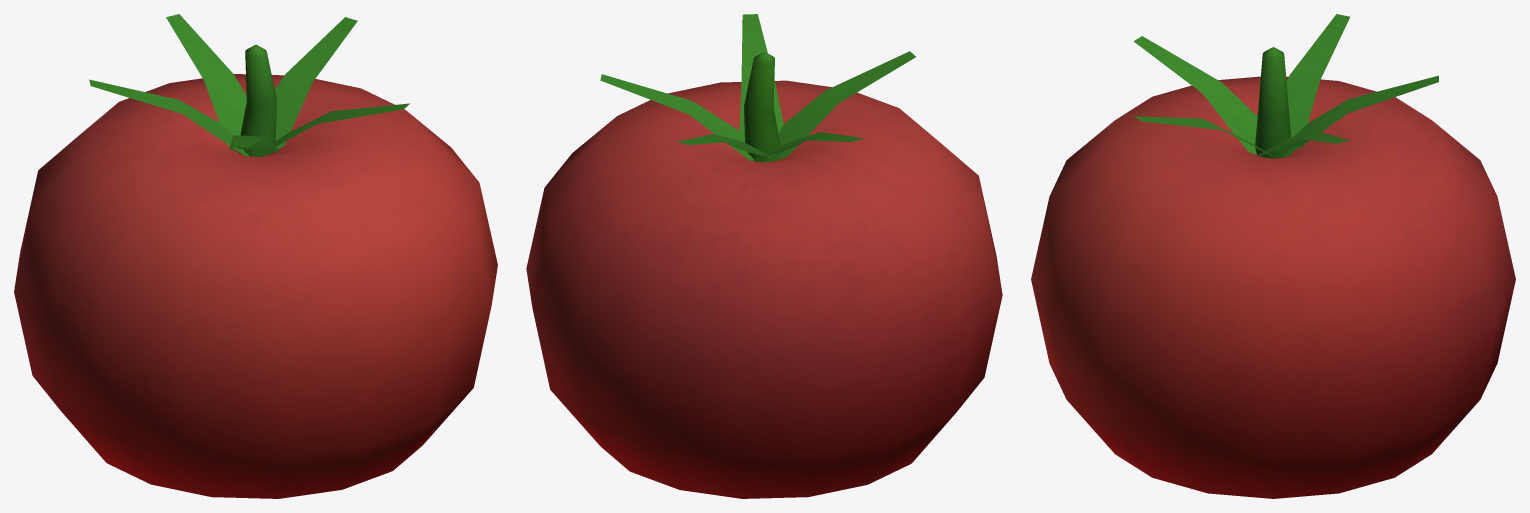
File: Tomato.fbx
The picture shows the model from 3 angles, left to right: view 1: azimuth 30°, elevation 25°; view 2: azimuth 150°, elevation 25°; view 3: azimuth 270°, elevation 25°; orthographic projection.
Visible parts, largest first — view 1: Tomato.Base; view 2: Tomato.Base; view 3: Tomato.Base.
Boxes of the visible parts, x1=… form: Tomato.Base: x1=14, y1=14, x2=497, y2=498; Tomato.Base: x1=526, y1=14, x2=1002, y2=498; Tomato.Base: x1=1031, y1=14, x2=1515, y2=498.
Size of the model in its own units: 40.58 by 36.99 by 40.58.
